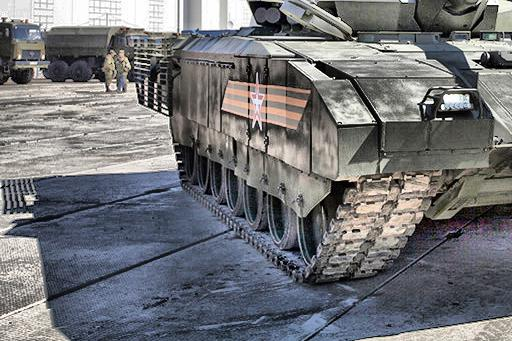tanks: (139, 1, 512, 283)
